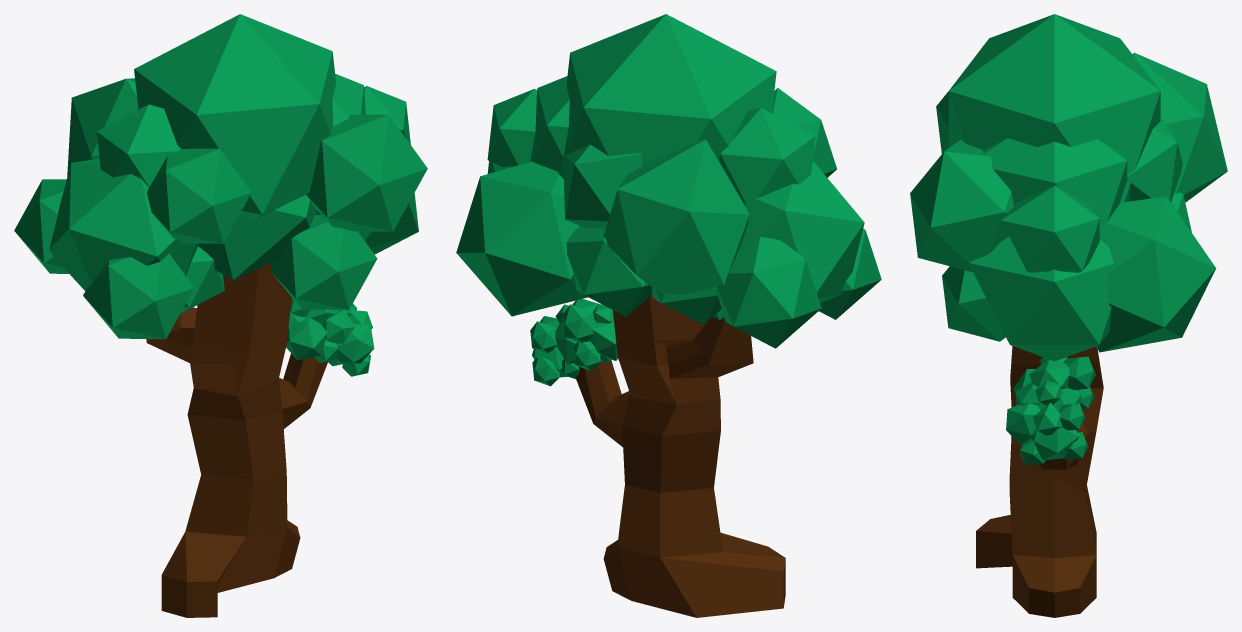
Rendered from Arbolito1.fbx.
3 renders of one model, left to right at view 1: azimuth 30°, elevation 25°; view 2: azimuth 150°, elevation 25°; view 3: azimuth 270°, elevation 25°, orthographic. The views are drawn at different scales.
Parts seen in each view (by area): view 1: Arbolito1; view 2: Arbolito1; view 3: Arbolito1.
Part boxes in pixels (box(x1,y1,x2,y2)): Arbolito1: box(14, 14, 427, 617); Arbolito1: box(456, 14, 881, 617); Arbolito1: box(910, 14, 1227, 617).
Bounding box in the file's own units: 0.273 × 0.4178 × 0.2057.
